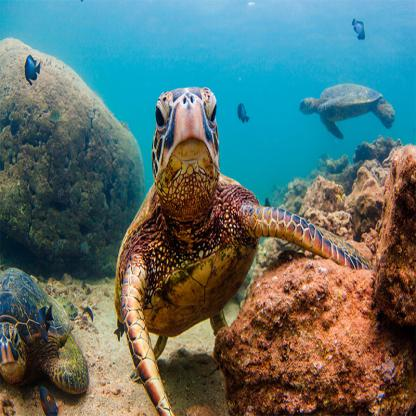turtle: (149, 75, 224, 229), (0, 307, 32, 383), (294, 92, 318, 120)
